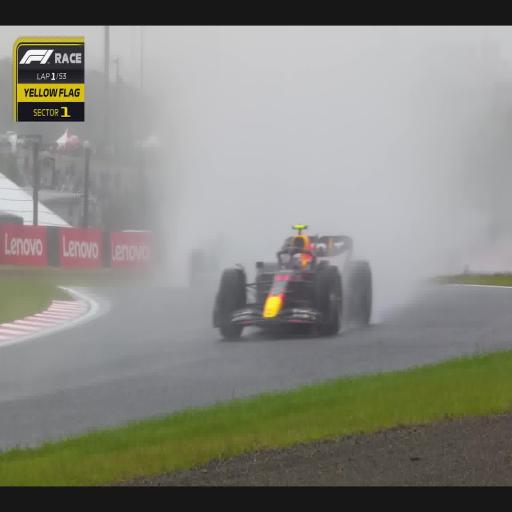f1_car: (212, 225, 371, 338)
